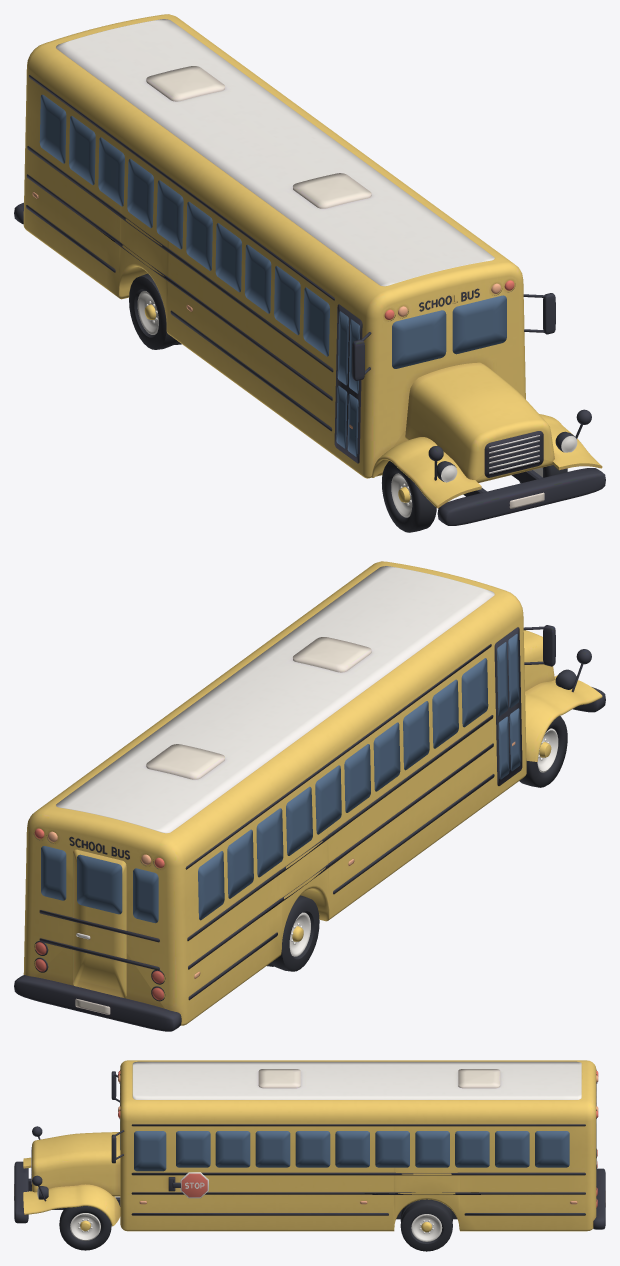
File: school-bus.glb
3 renders of one model, top to bottom at view 1: azimuth 30°, elevation 25°; view 2: azimuth 150°, elevation 25°; view 3: azimuth 270°, elevation 25°, orthographic. The views are drawn at different scales.
Parts seen in each view (by area): view 1: school-bus_body, school-bus_windows, school-bus_wheel_fr, school-bus_door_windows, school-bus_wheel_rr, school-bus_headlights; view 2: school-bus_body, school-bus_windows, school-bus_door_windows, school-bus_wheel_rr, school-bus_wheel_fr, school-bus_taillights; view 3: school-bus_body, school-bus_windows, school-bus_wheel_rl, school-bus_wheel_fl, school-bus_stop_arm.
Boxes of the visible parts, left/top/right/bottom form: school-bus_body: left=14, top=14, right=605, bottom=525; school-bus_windows: left=39, top=94, right=506, bottom=368; school-bus_wheel_fr: left=382, top=461, right=436, bottom=532; school-bus_door_windows: left=336, top=311, right=359, bottom=456; school-bus_wheel_rr: left=129, top=273, right=181, bottom=349; school-bus_headlights: left=437, top=431, right=577, bottom=482; school-bus_body: left=14, top=561, right=605, bottom=1031; school-bus_windows: left=41, top=658, right=488, bottom=923; school-bus_door_windows: left=497, top=634, right=520, bottom=779; school-bus_wheel_rr: left=267, top=895, right=319, bottom=971; school-bus_wheel_fr: left=519, top=716, right=567, bottom=787; school-bus_taillights: left=34, top=941, right=165, bottom=1001; school-bus_body: left=14, top=1060, right=605, bottom=1231; school-bus_windows: left=120, top=1119, right=596, bottom=1171; school-bus_wheel_rl: left=400, top=1199, right=452, bottom=1251; school-bus_wheel_fl: left=59, top=1206, right=111, bottom=1250; school-bus_stop_arm: left=172, top=1172, right=208, bottom=1198.
Size of the model in its own units: 3.02 by 3.15 by 11.28.
Materials: 24 (1 with a texture image).
